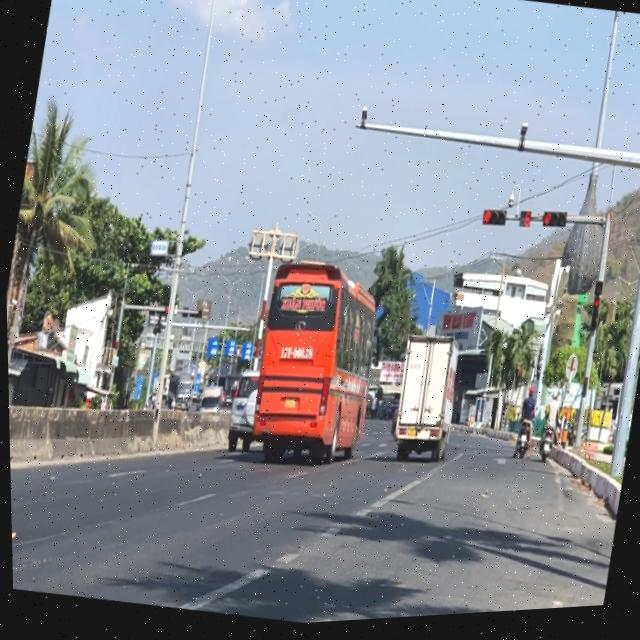Red: (541, 214, 566, 237), (480, 213, 505, 233), (586, 305, 600, 339)
